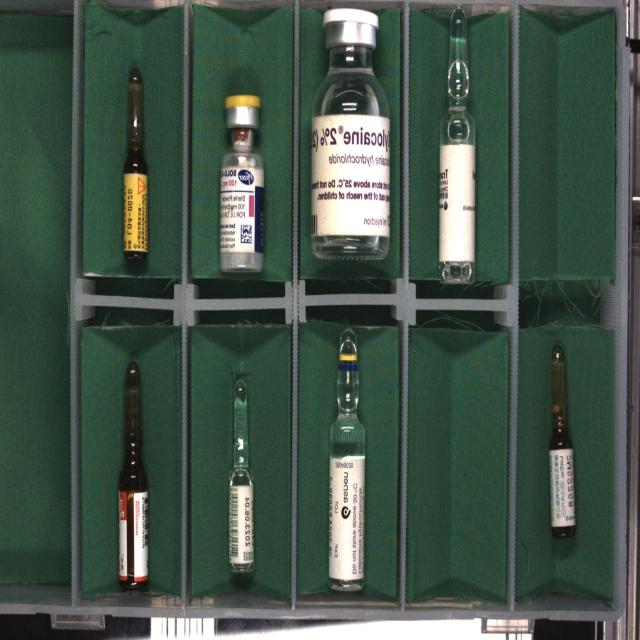Vials: (312, 8, 390, 260), (220, 94, 265, 272)
